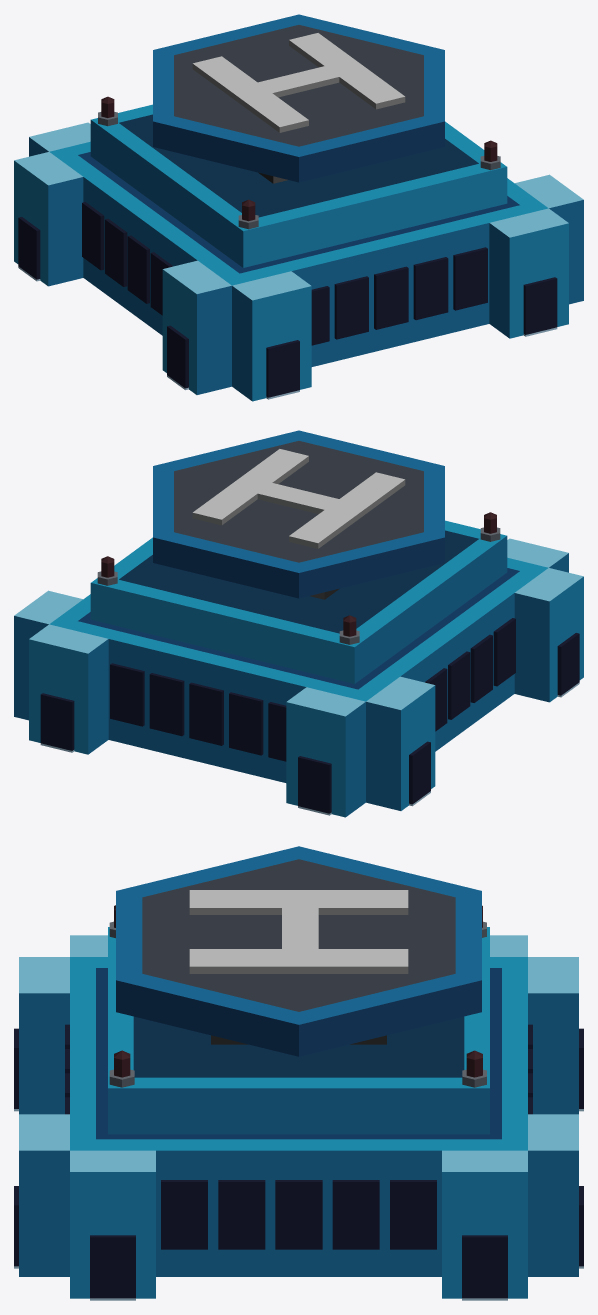
Rendered from TB_CITY_Skysc_I_Top_Blue.FBX.
3 renders of one model, top to bottom at view 1: azimuth 30°, elevation 25°; view 2: azimuth 150°, elevation 25°; view 3: azimuth 270°, elevation 25°, orthographic. The views are drawn at different scales.
Parts seen in each view (by area): view 1: TB_CITY_Skysc_I_Top_Blue; view 2: TB_CITY_Skysc_I_Top_Blue; view 3: TB_CITY_Skysc_I_Top_Blue.
Part boxes in pixels (x1=…): TB_CITY_Skysc_I_Top_Blue: x1=14, y1=14, x2=583, y2=401; TB_CITY_Skysc_I_Top_Blue: x1=14, y1=430, x2=583, y2=817; TB_CITY_Skysc_I_Top_Blue: x1=14, y1=846, x2=583, y2=1300.
Size of the model in its own units: 22.4 by 10.92 by 22.4.
